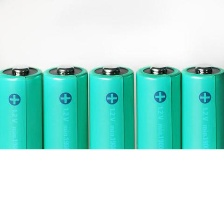battery: (39, 62, 91, 205), (87, 63, 136, 205), (133, 60, 182, 200), (180, 61, 224, 202), (0, 61, 43, 204)
